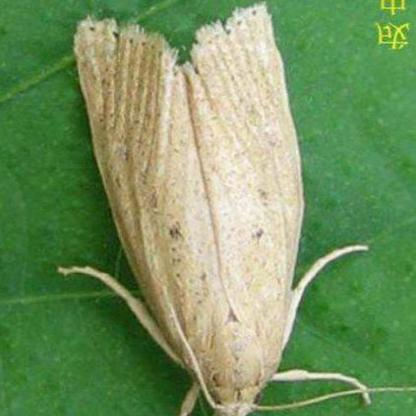stem-borer: (65, 2, 330, 416)
